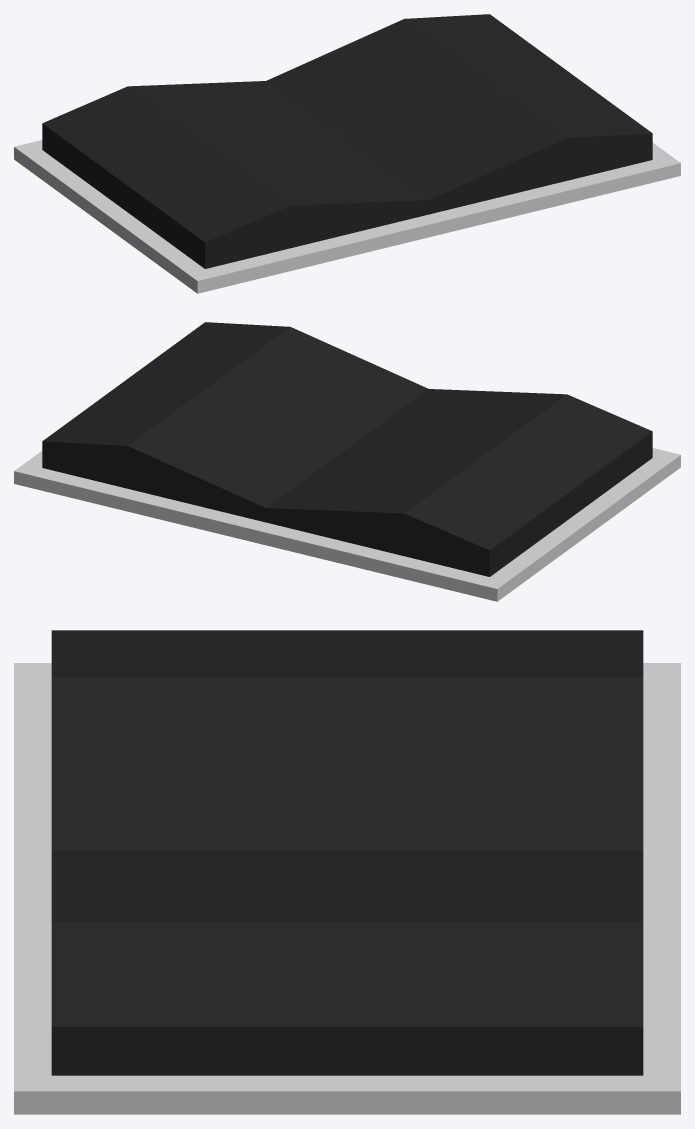
Rendered from BookOpened_Mesh.fbx.
3 renders of one model, top to bottom at view 1: azimuth 30°, elevation 25°; view 2: azimuth 150°, elevation 25°; view 3: azimuth 270°, elevation 25°, orthographic. The views are drawn at different scales.
Parts seen in each view (by area): view 1: BookOpened; view 2: BookOpened; view 3: BookOpened.
Boxes of the visible parts, x1,y1,x2,y2 form: BookOpened: [14, 14, 680, 293]; BookOpened: [14, 322, 680, 601]; BookOpened: [14, 630, 680, 1114].
Size of the model in its own units: 45.6 by 5 by 30.
